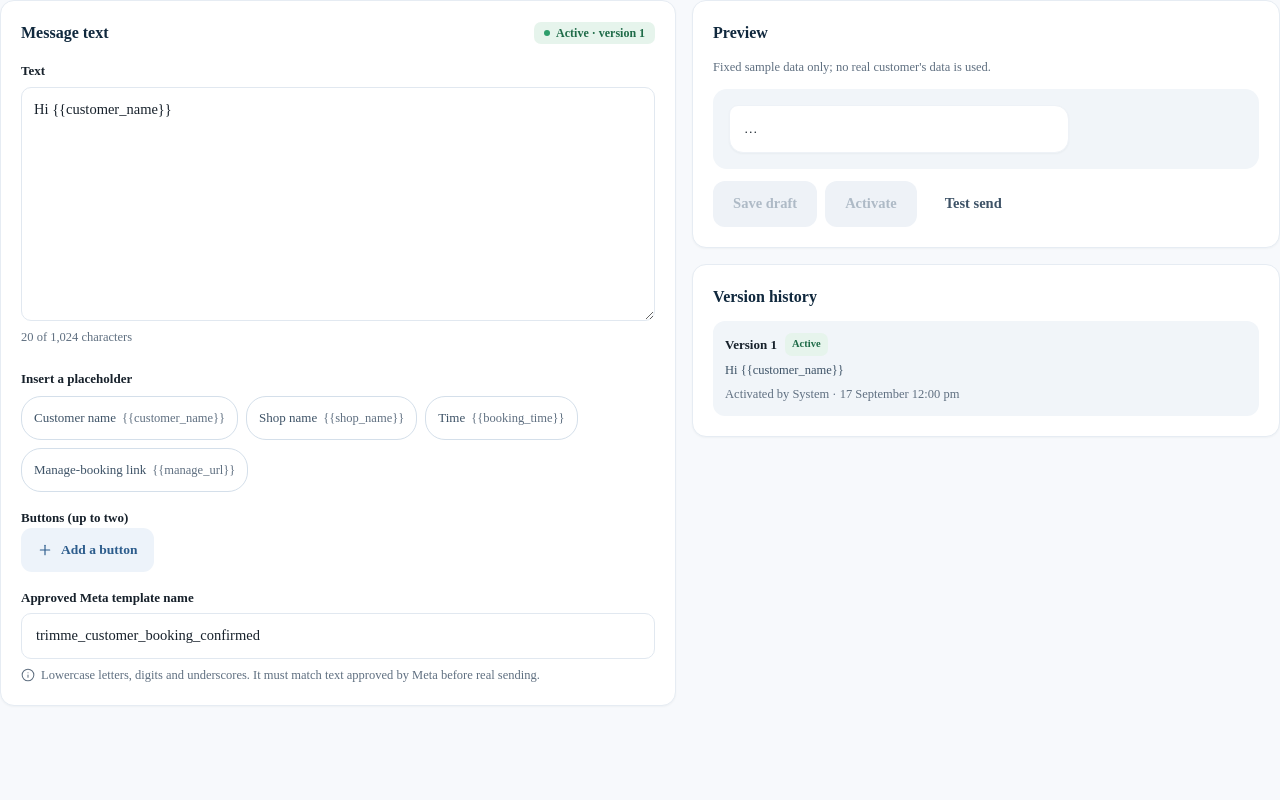
Test case: TemplateEditor › never prefills the test recipient and needs the explicit confirmation
Click the button "Test send": (973,204) x1=925 y1=181 x2=1022 y2=227
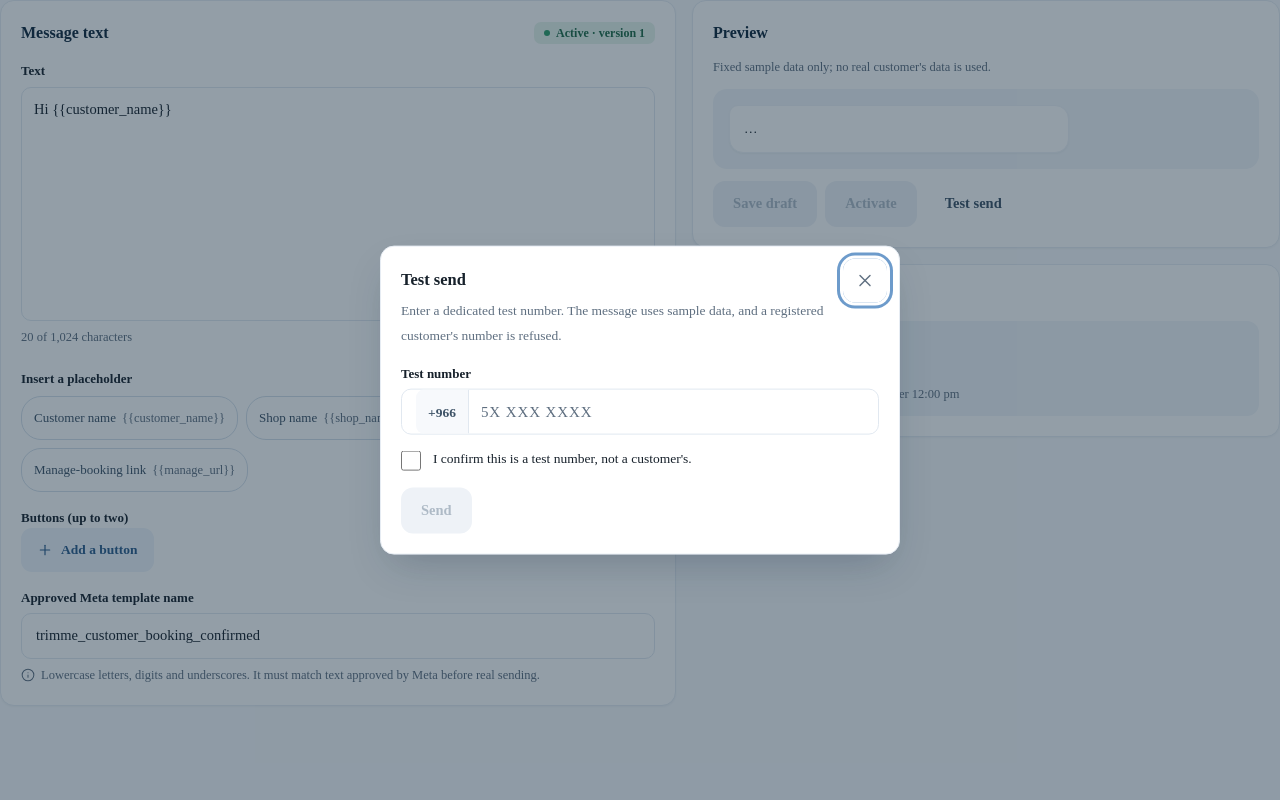
Expected: the field labelled "Test number" is empty
In the field labelled "Test number": (666,412) x1=469 y1=390 x2=864 y2=434, type "512300077"
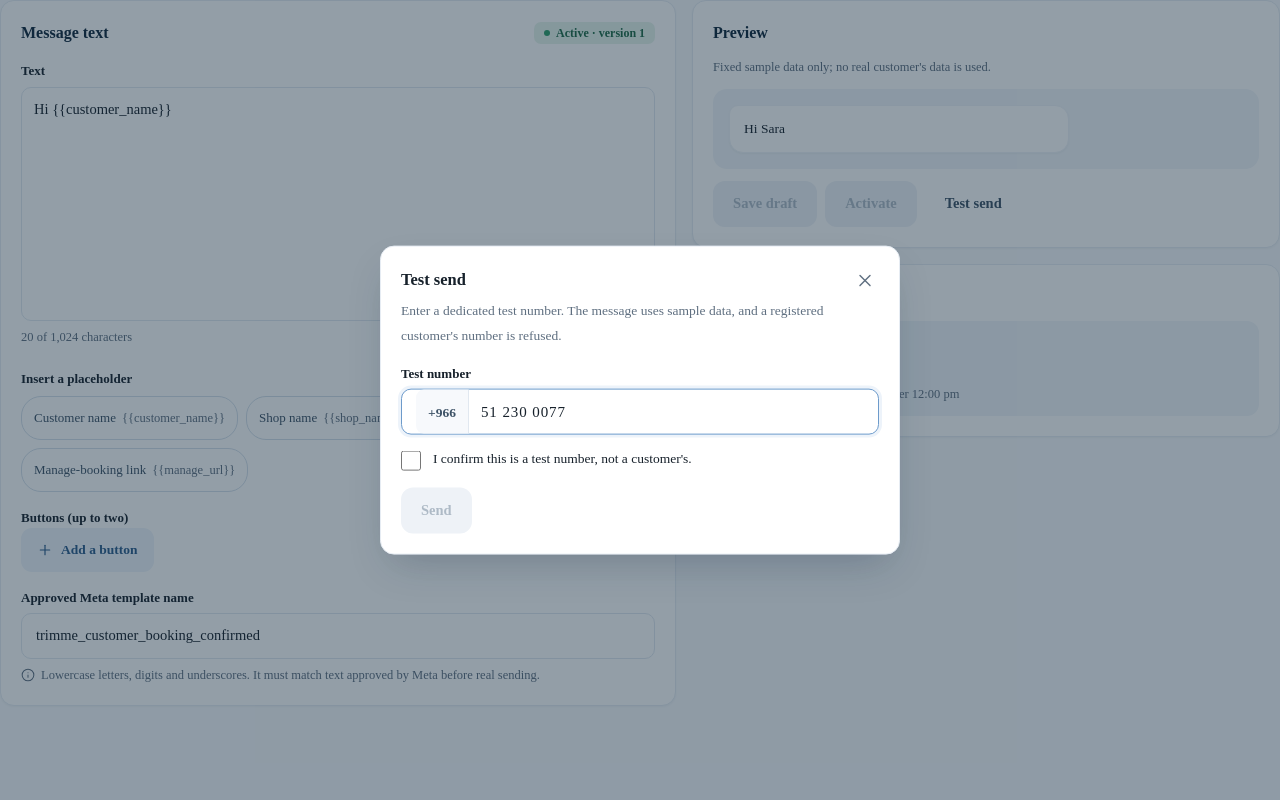
Expected: the button "Send" is disabled, x1=401 y1=487 x2=472 y2=533
Click the checkbox labelled "I confirm this is a test number, not a customer's.": (411,461) x1=401 y1=451 x2=421 y2=471
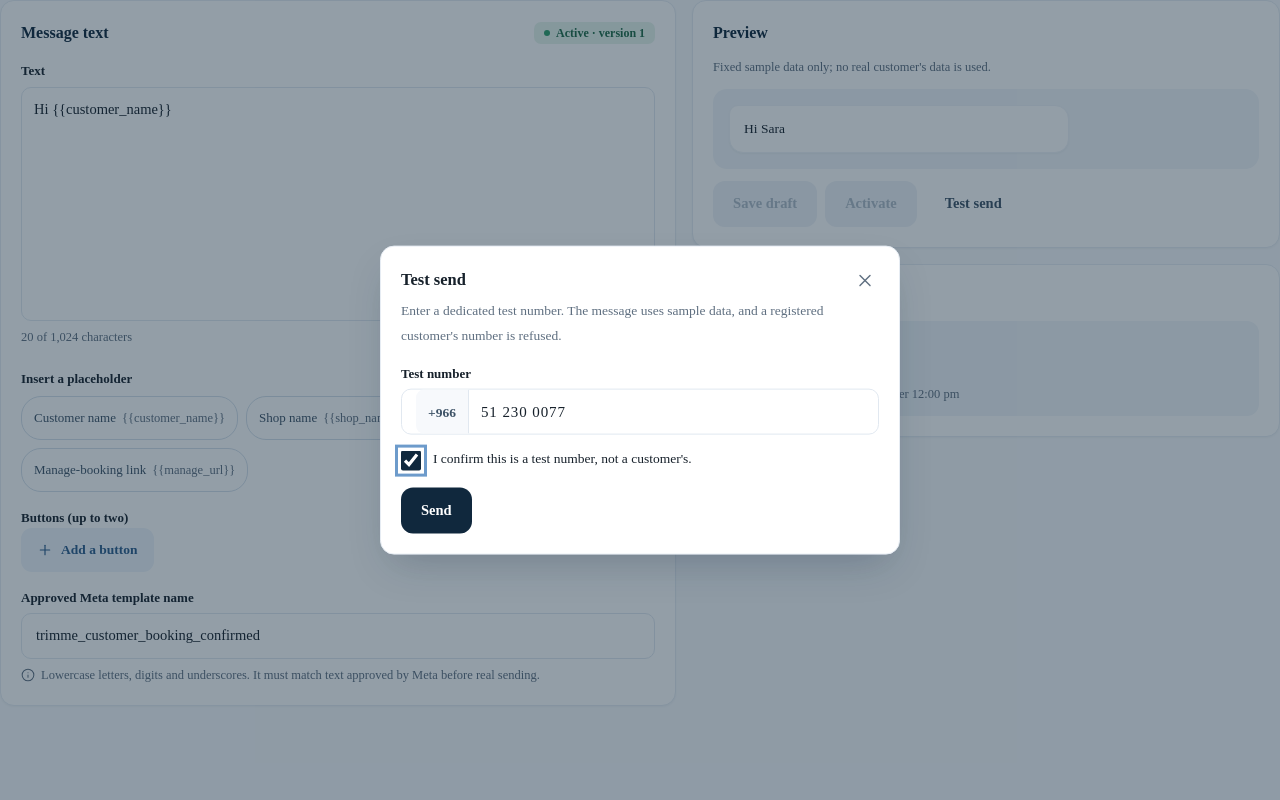
Click the button "Send": (436,510) x1=401 y1=487 x2=472 y2=533
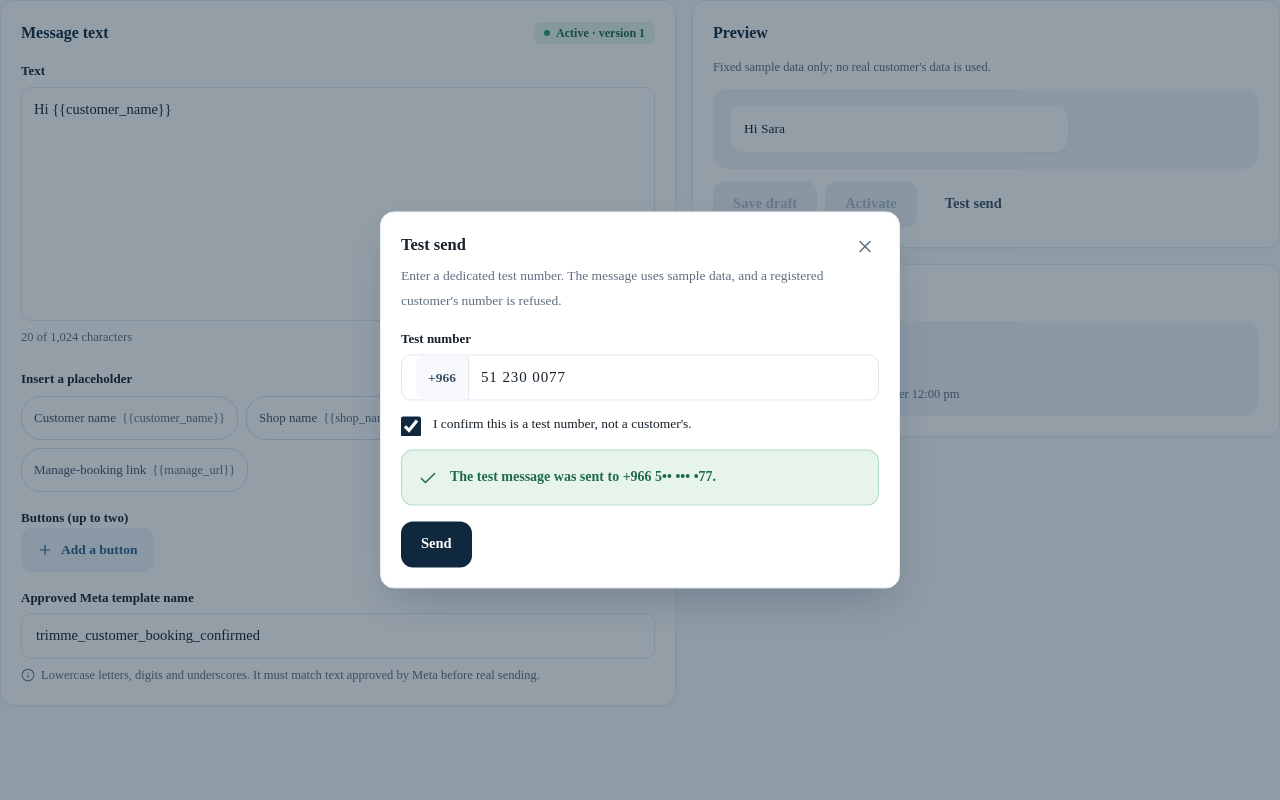
Expected: the text "The test message was sent to +966 5•• ••• •77." is shown, x1=450 y1=469 x2=716 y2=484
